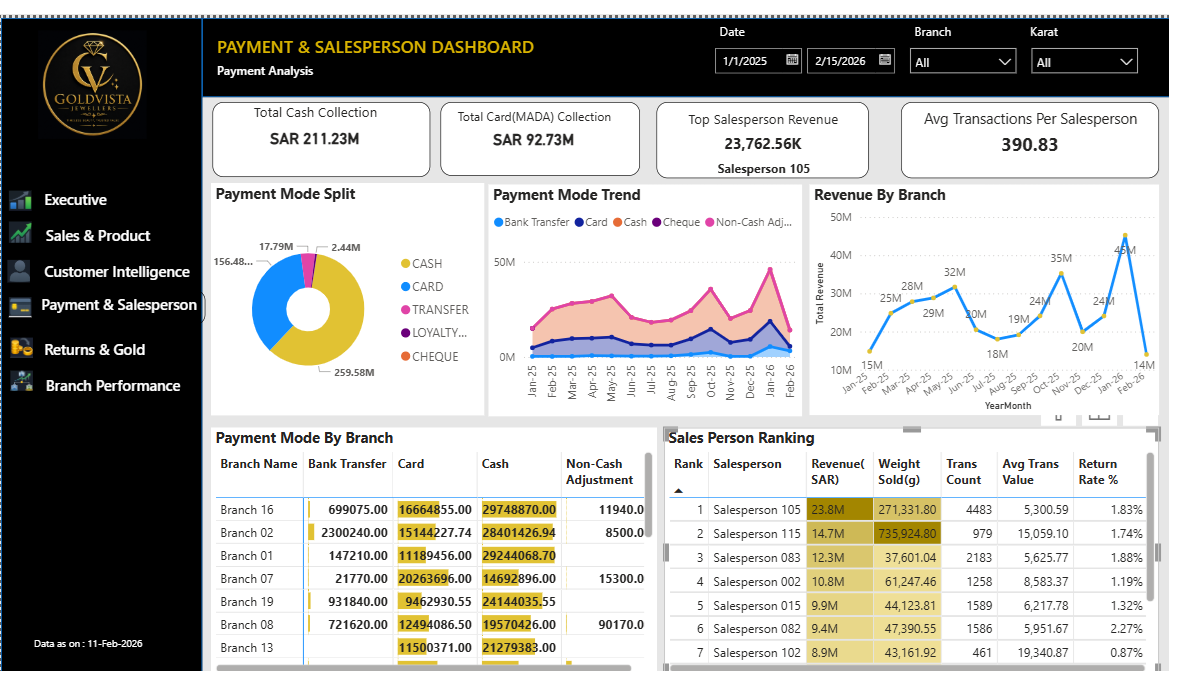

What the dashboard file says about the page in this screenshot:
{"tool":"powerbi","page":{"name":"Payment & Salesperson","canvas":[1280,720],"ordinal":3},"visuals":[{"type":"shape","box":[0,0,220,720],"z":0},{"type":"image","box":[31.5,9,137.1,129.2],"z":1000},{"type":"card","fields":{"Values":["Measure.Last Data Date"]},"box":[0,653,190,67],"z":2000},{"type":"shape","box":[220.2,0,1059.6,86.5],"z":3000},{"type":"slicer","fields":{"Values":["dim_date.Date"]},"box":[767,23,217,64],"z":4000},{"type":"textbox","box":[780,0,74,30],"z":5000},{"type":"slicer","fields":{"Values":["public dim_branch.branch_name"]},"box":[984,23,136,55],"z":6000},{"type":"slicer","fields":{"Values":["public dim_karat.karat_name"]},"box":[1117,23,136,55],"z":7000},{"type":"textbox","box":[993,0,74,30],"z":8000},{"type":"textbox","box":[1120,0,74,30],"z":9000},{"type":"textbox","title":"PAYMENT & SALESPERSON DASHBOARD","box":[231.5,18,420.2,50.6],"z":10000},{"type":"actionButton","title":"Executive","box":[43.2,181.8,154,39],"z":11000},{"type":"actionButton","title":"Sales & Product","box":[44.2,220.8,154,39],"z":12000},{"type":"actionButton","title":"Customer Intelligence","box":[43.2,260.5,175,38.3],"z":13000},{"type":"actionButton","title":"Payment & Salesperson","box":[39.5,297.5,184,39.5],"z":14000},{"type":"actionButton","title":"Returns & Buy-Back","box":[43.2,345.8,154,39],"z":15000},{"type":"actionButton","title":"Branch Performance","box":[43.5,384.5,155,41],"z":16000},{"type":"image","box":[3.2,181.4,35,35],"z":17000},{"type":"image","box":[4.8,378,35,35],"z":18000},{"type":"image","box":[4.8,343,35,35],"z":19000},{"type":"image","box":[1.5,259.7,35,35],"z":20000},{"type":"image","box":[3.2,298,35,35],"z":21000},{"type":"image","box":[3.2,216.4,35,35],"z":22000},{"type":"donutChart","title":"Payment Mode Split","fields":{"Category":["public dim_payment_mode.payment_type"],"Y":["Measure.Total Revenue"]},"box":[229.6,180.2,298.8,254.3],"z":23000},{"type":"card","title":"Total Cash Collection","fields":{"Values":["Measure.Cash Collection Display"]},"box":[231.5,92.1,238.2,82],"z":24000},{"type":"card","title":"Top Salesperson Revenue","fields":{"Values":["Measure.Top Salesperson Revenue"]},"box":[716.7,91.7,232.3,83.3],"z":25000},{"type":"card","title":"Total Card(MADA) Collection","fields":{"Values":["Measure.Card Collection Display"]},"box":[480.9,92.1,218,80.9],"z":26000},{"type":"card","title":"Avg Transactions Per Salesperson","fields":{"Values":["Measure.Avg Transactions Per Salesperson"]},"box":[984.3,92.1,282,83.1],"z":27000},{"type":"stackedAreaChart","title":"Payment Mode Trend","fields":{"Category":["dim_date.YearMonth"],"Series":["public vw_payment_clean.payment_type"],"Y":["Sum(public vw_payment_clean.amount)"]},"box":[532.3,181.2,342.7,253.1],"z":28000},{"type":"pivotTable","title":"Payment Mode By Branch","fields":{"Rows":["public dim_branch.branch_name"],"Columns":["public vw_payment_clean.payment_type"],"Values":["Measure.Total Revenue Branch"]},"box":[229.6,446.9,487.7,272.8],"z":29000},{"type":"tableEx","title":"Sales Person Ranking","fields":{"Values":["Measure.Salesperson Rank","public dim_salesperson.salesperson_name","Measure.Total Revenue Branch","Measure.Total Weight","Measure.Invoice Count","Measure.Average Invoice Value","Measure.Return Rate % Count"]},"box":[724.7,446.9,540.7,272.8],"z":30000},{"type":"lineChart","title":"Revenue By Branch","fields":{"Category":["dim_date.YearMonth"],"Y":["Measure.Total Revenue"]},"box":[883.3,182.3,382.3,252.1],"z":31000},{"type":"card","title":"Top Salesperson Revenue","fields":{"Values":["Measure.Top Salesperson Name"]},"box":[759.4,149,149,47.9],"z":32000}]}

Visuals, with their boxes on the page's 1280x720 design canvas (x1, y1, x2, y2). These are canvas units, not pixel positions in the 1181x673 screenshot, which may show the page scaled, cropped or inside an application window:
shape: <bbox>0, 0, 220, 720</bbox>
image: <bbox>32, 9, 169, 138</bbox>
card - Measure.Last Data Date: <bbox>0, 653, 190, 720</bbox>
shape: <bbox>220, 0, 1280, 86</bbox>
slicer - dim_date.Date: <bbox>767, 23, 984, 87</bbox>
textbox: <bbox>780, 0, 854, 30</bbox>
slicer - public dim_branch.branch_name: <bbox>984, 23, 1120, 78</bbox>
slicer - public dim_karat.karat_name: <bbox>1117, 23, 1253, 78</bbox>
textbox: <bbox>993, 0, 1067, 30</bbox>
textbox: <bbox>1120, 0, 1194, 30</bbox>
"PAYMENT & SALESPERSON DASHBOARD" textbox: <bbox>232, 18, 652, 69</bbox>
"Executive" actionButton: <bbox>43, 182, 197, 221</bbox>
"Sales & Product" actionButton: <bbox>44, 221, 198, 260</bbox>
"Customer Intelligence" actionButton: <bbox>43, 260, 218, 299</bbox>
"Payment & Salesperson" actionButton: <bbox>40, 298, 224, 337</bbox>
"Returns & Buy-Back" actionButton: <bbox>43, 346, 197, 385</bbox>
"Branch Performance" actionButton: <bbox>44, 384, 198, 426</bbox>
image: <bbox>3, 181, 38, 216</bbox>
image: <bbox>5, 378, 40, 413</bbox>
image: <bbox>5, 343, 40, 378</bbox>
image: <bbox>2, 260, 36, 295</bbox>
image: <bbox>3, 298, 38, 333</bbox>
image: <bbox>3, 216, 38, 251</bbox>
"Payment Mode Split" donutChart: <bbox>230, 180, 528, 434</bbox>
"Total Cash Collection" card: <bbox>232, 92, 470, 174</bbox>
"Top Salesperson Revenue" card: <bbox>717, 92, 949, 175</bbox>
"Total Card(MADA) Collection" card: <bbox>481, 92, 699, 173</bbox>
"Avg Transactions Per Salesperson" card: <bbox>984, 92, 1266, 175</bbox>
"Payment Mode Trend" stackedAreaChart: <bbox>532, 181, 875, 434</bbox>
"Payment Mode By Branch" pivotTable: <bbox>230, 447, 717, 720</bbox>
"Sales Person Ranking" tableEx: <bbox>725, 447, 1265, 720</bbox>
"Revenue By Branch" lineChart: <bbox>883, 182, 1266, 434</bbox>
"Top Salesperson Revenue" card: <bbox>759, 149, 908, 197</bbox>
